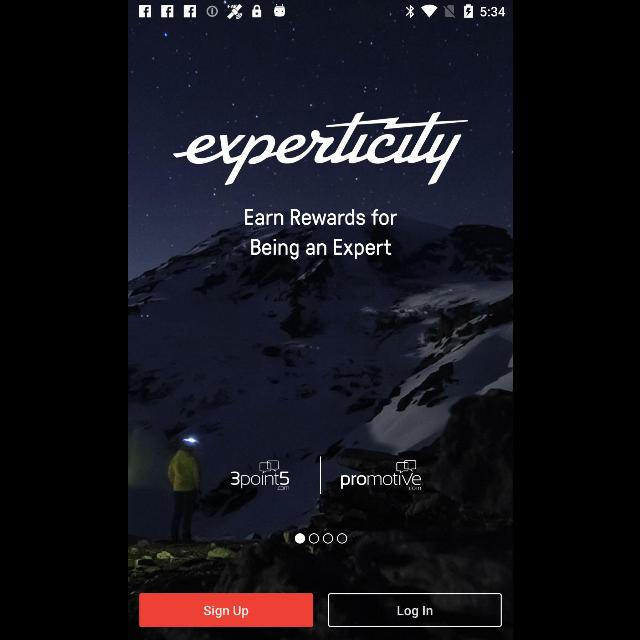backgroundimage: (128, 22, 512, 640)
image: (172, 112, 468, 186), (340, 460, 420, 490), (230, 460, 288, 490)
pageindicator: (293, 533, 347, 545)
text: (244, 208, 396, 260)
textbutton: (138, 593, 312, 627), (327, 593, 501, 627)
uppertaskbar: (128, 1, 512, 23)
